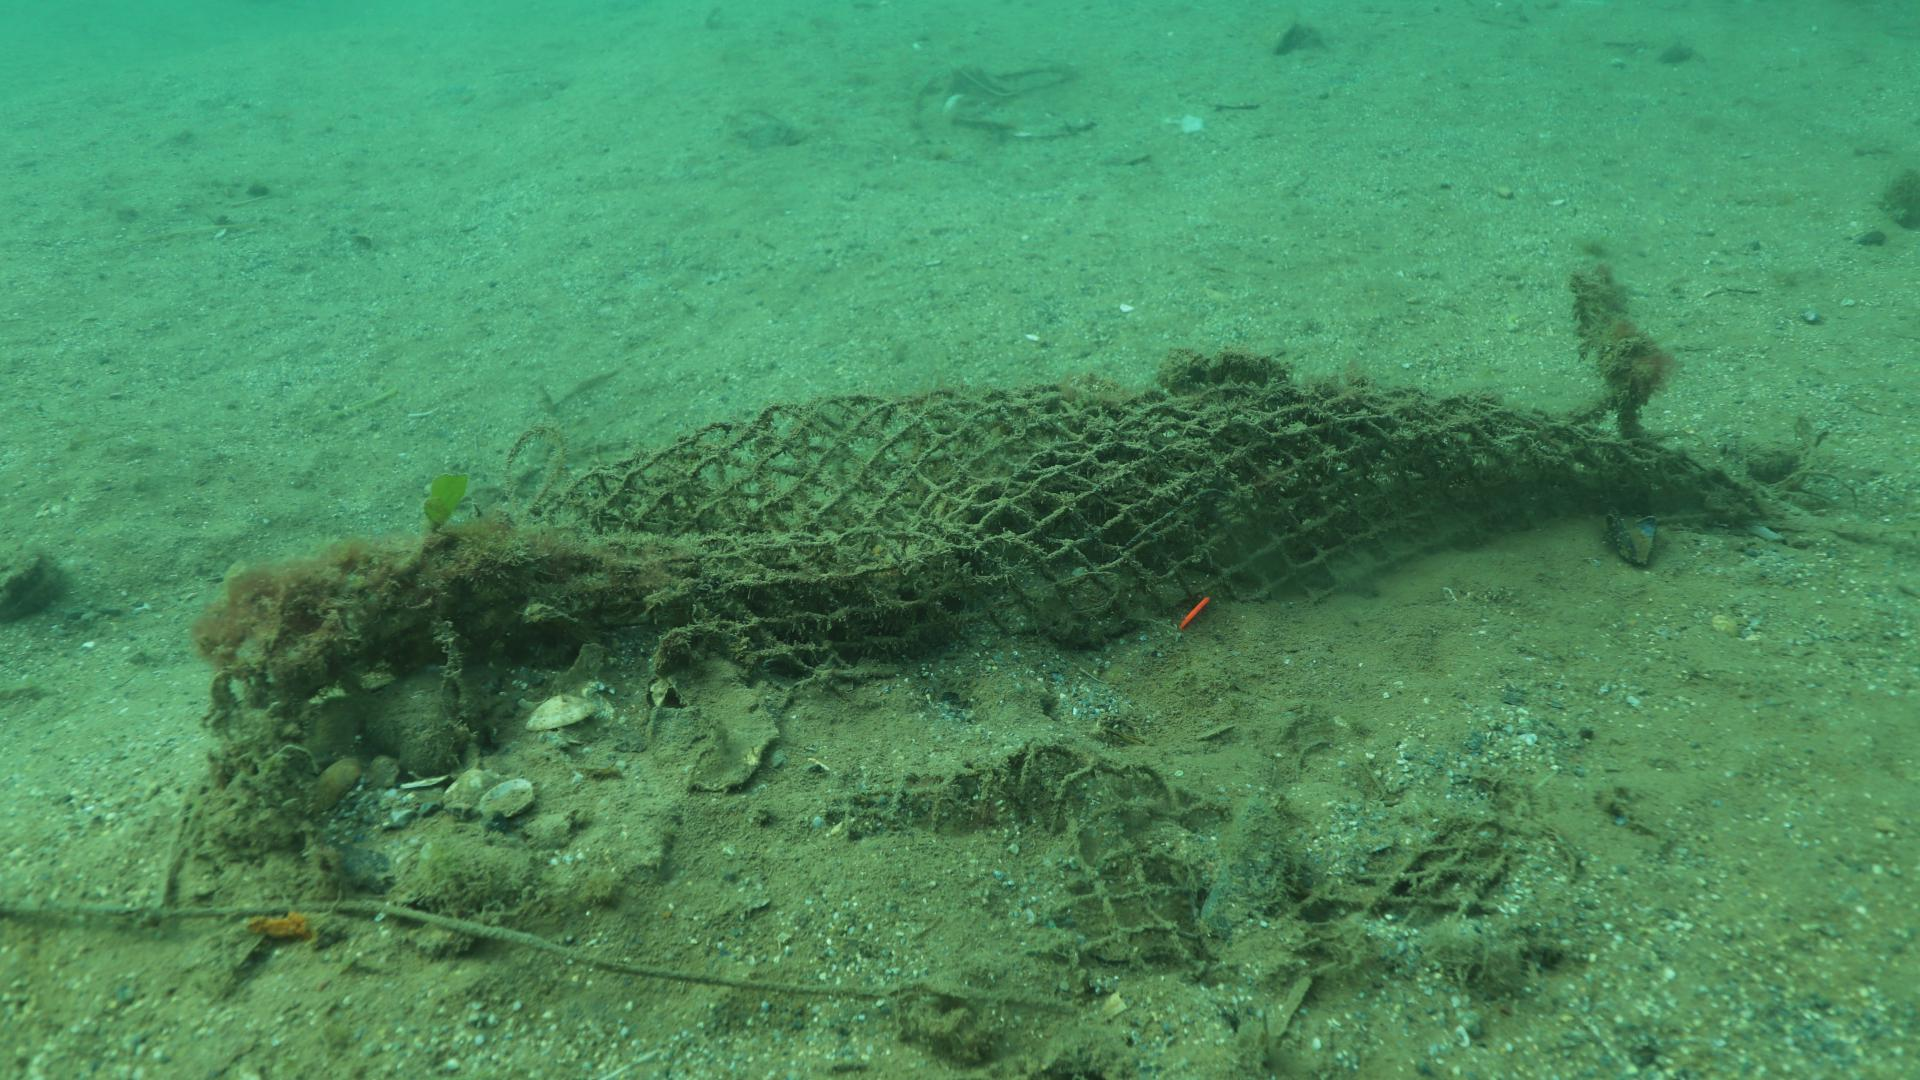fish net: (537, 382, 1557, 691), (857, 738, 1230, 969), (1316, 810, 1509, 919)
